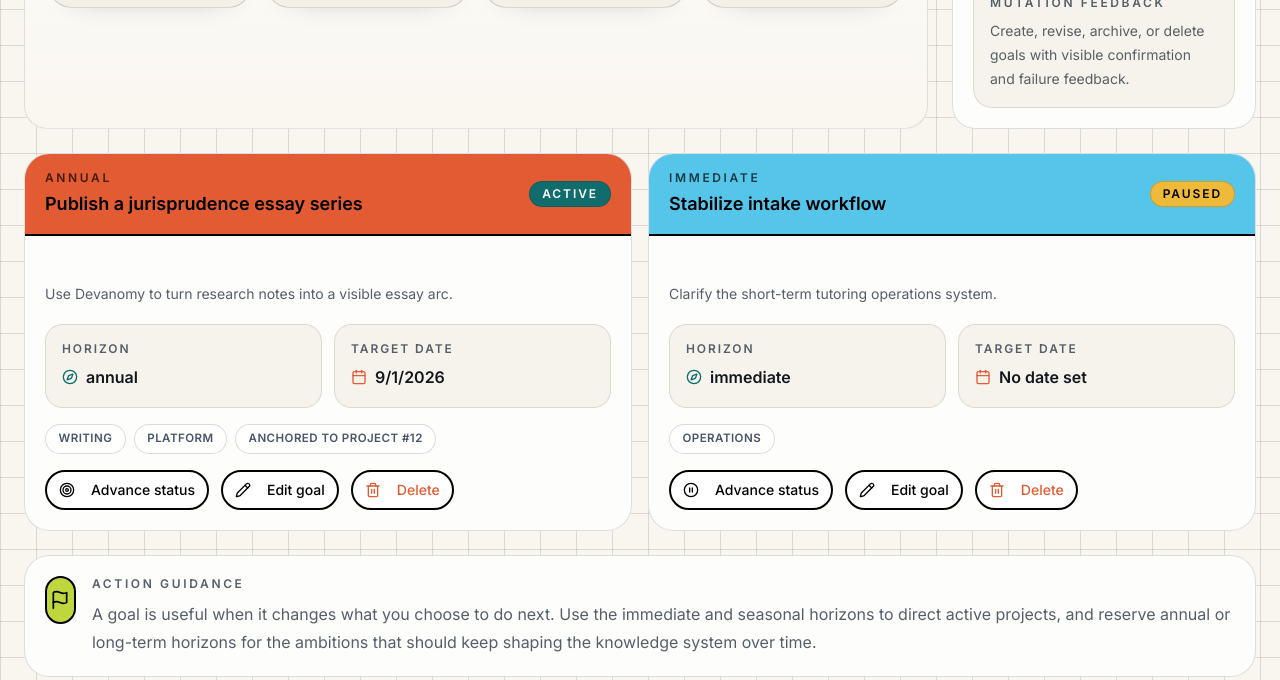
it: Goals page › shows visible failure feedback when a goal update fails
(page scrolled)
Click the button "Edit goal" below "writing".
click(280, 490)  # box top-left (221, 470), bottom-right (339, 510)
(page scrolled)
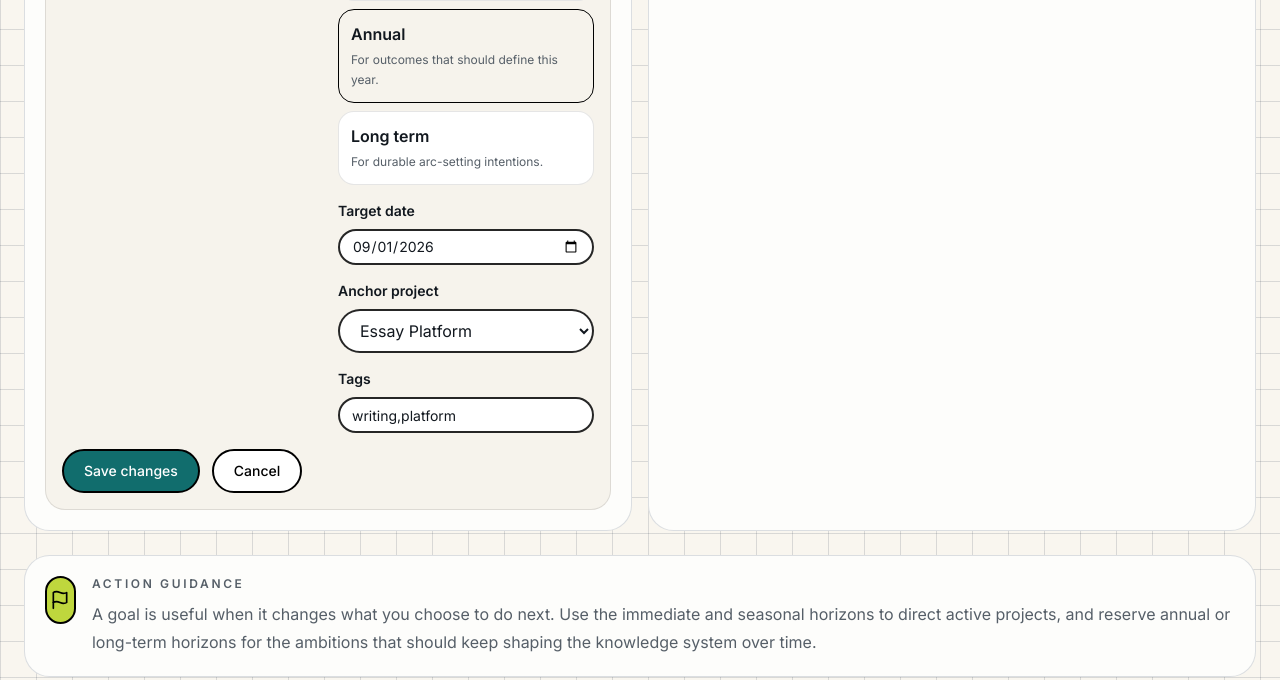
Click the button "Save changes".
click(131, 471)  # box top-left (62, 449), bottom-right (200, 493)
(page scrolled)
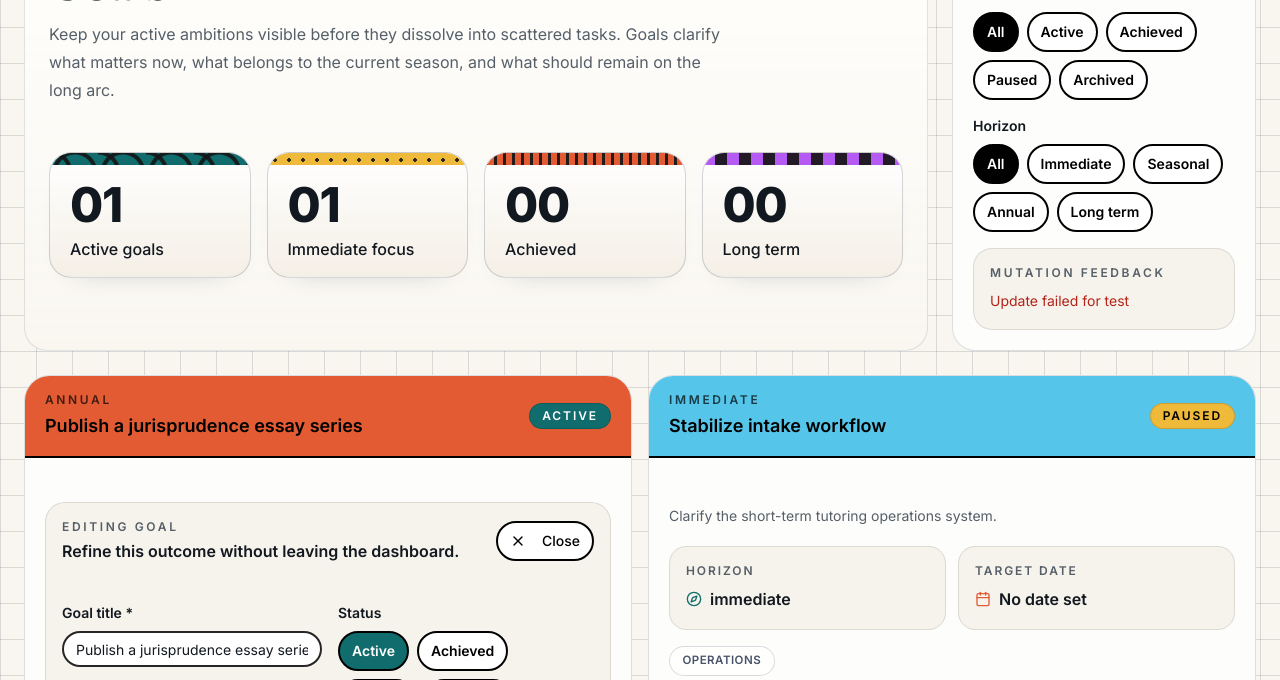
expect the text "Update failed for test" is shown: met, box top-left (990, 292), bottom-right (1129, 309)
